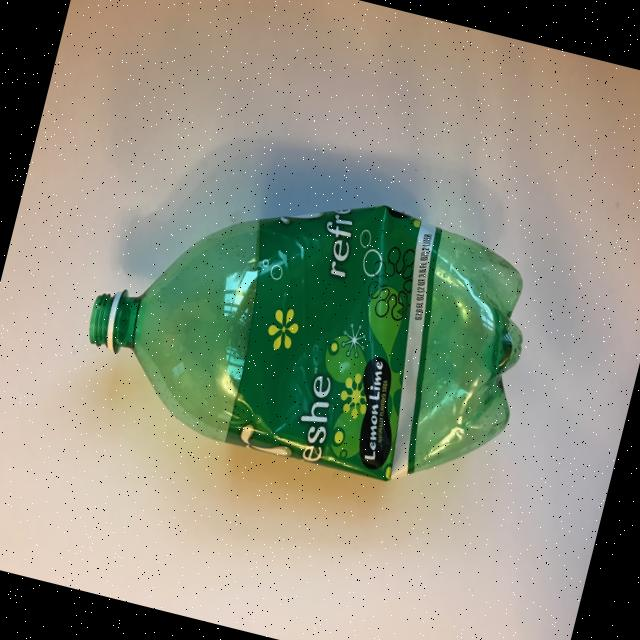plastic: (68, 140, 552, 510)
